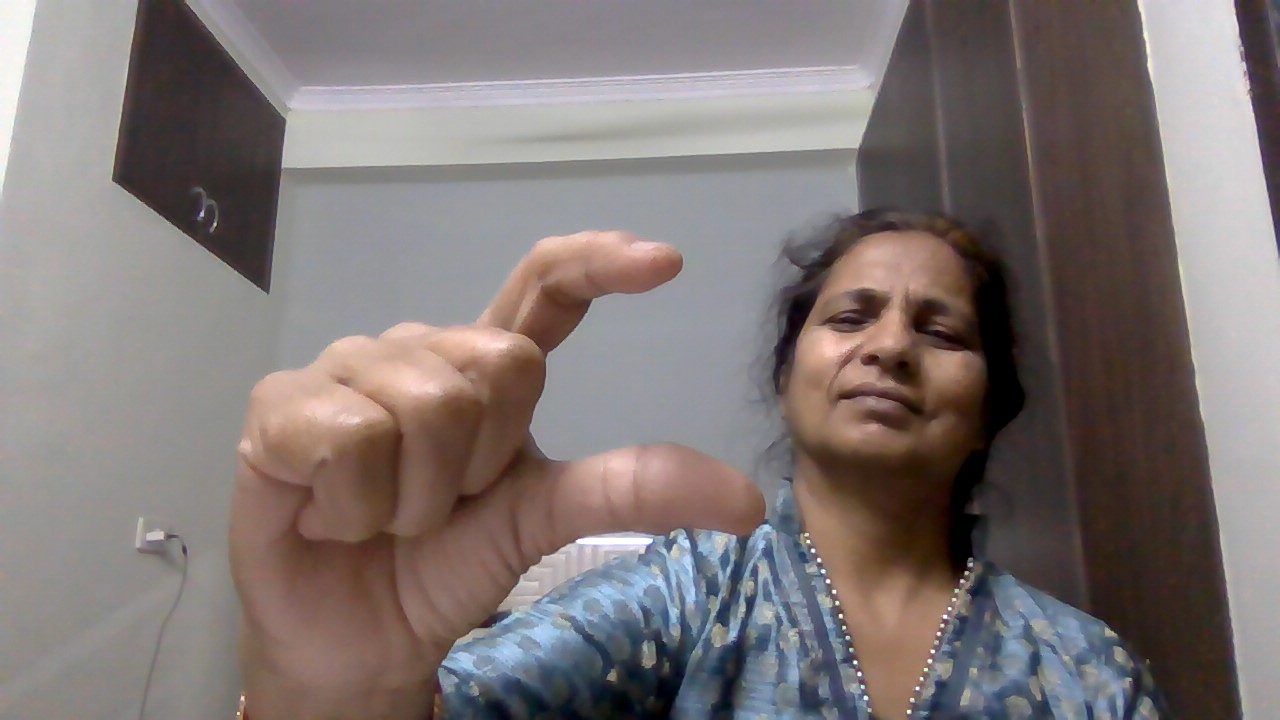Paste: (213, 215, 781, 708)
